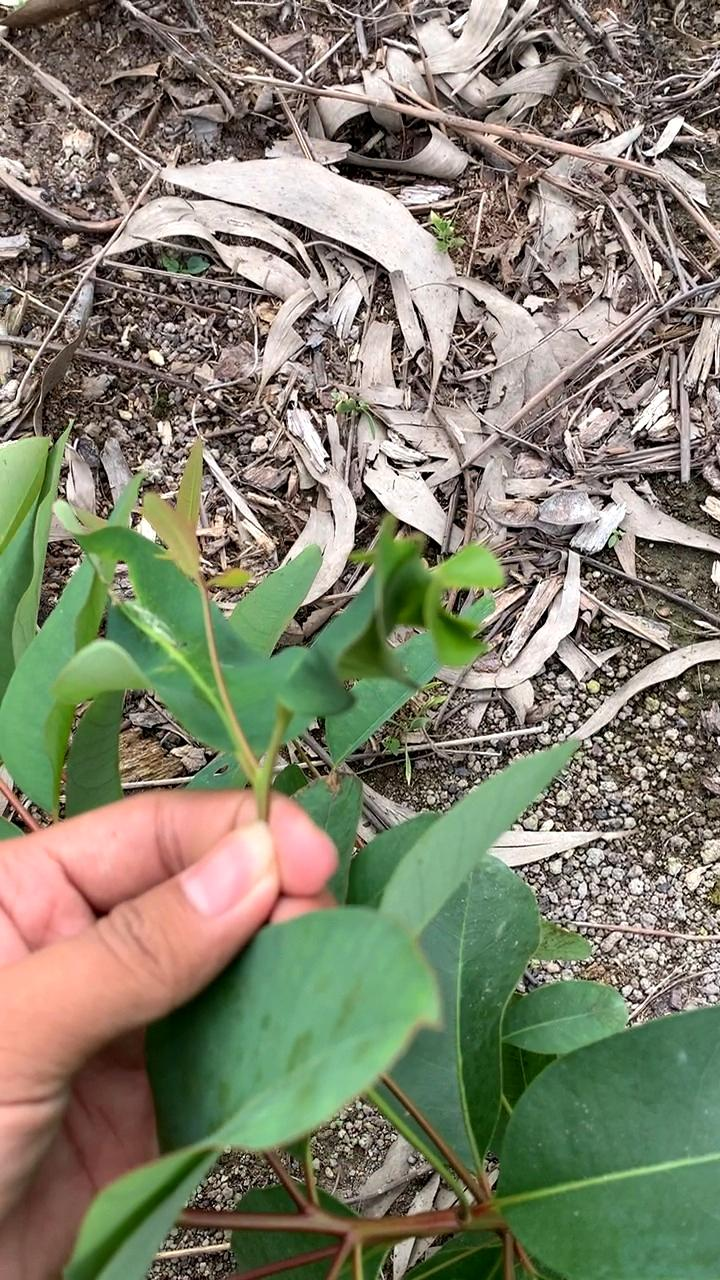Leaf Roller - Leaf: (275, 538, 505, 755)
